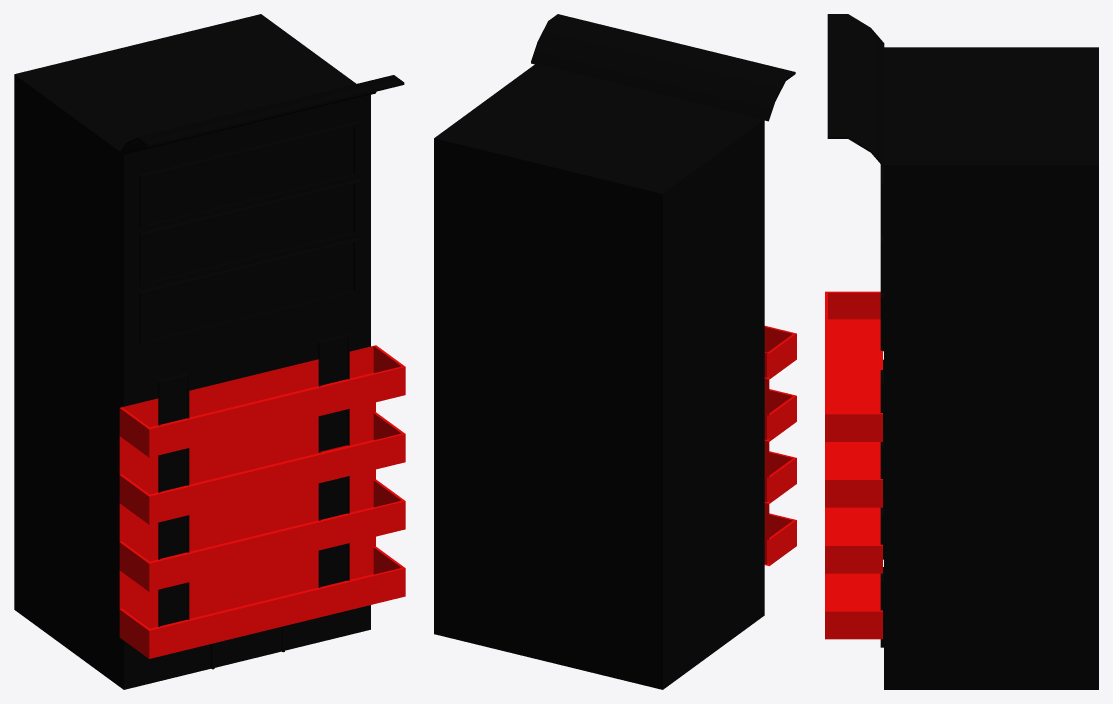
The model's file is new apartment.fbx.
The picture shows the model from 3 angles, left to right: view 1: azimuth 30°, elevation 25°; view 2: azimuth 150°, elevation 25°; view 3: azimuth 270°, elevation 25°; orthographic projection. The views are drawn at different scales.
Visible parts, largest first — view 1: polySurface27; view 2: polySurface27; view 3: polySurface27.
Boxes of the visible parts, <box> form: polySurface27: <box>14,14,405,689</box>; polySurface27: <box>434,14,796,689</box>; polySurface27: <box>825,14,1098,689</box>.
Size of the model in its own units: 2000 by 4223 by 1887.
